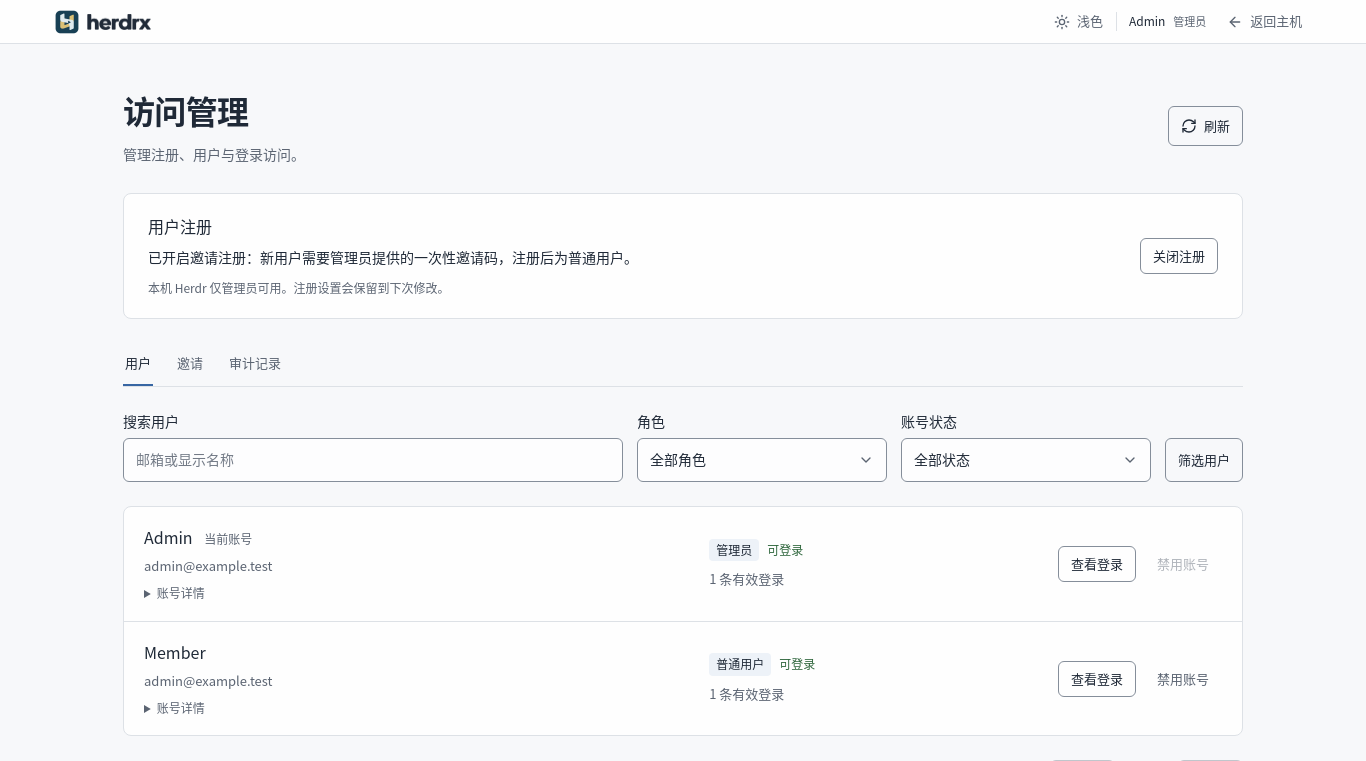
Test: keeps the confirmed state when a stale settings update fails
Click the button "关闭注册".
click(1179, 256)  # box x1=1140 y1=238 x2=1218 y2=274
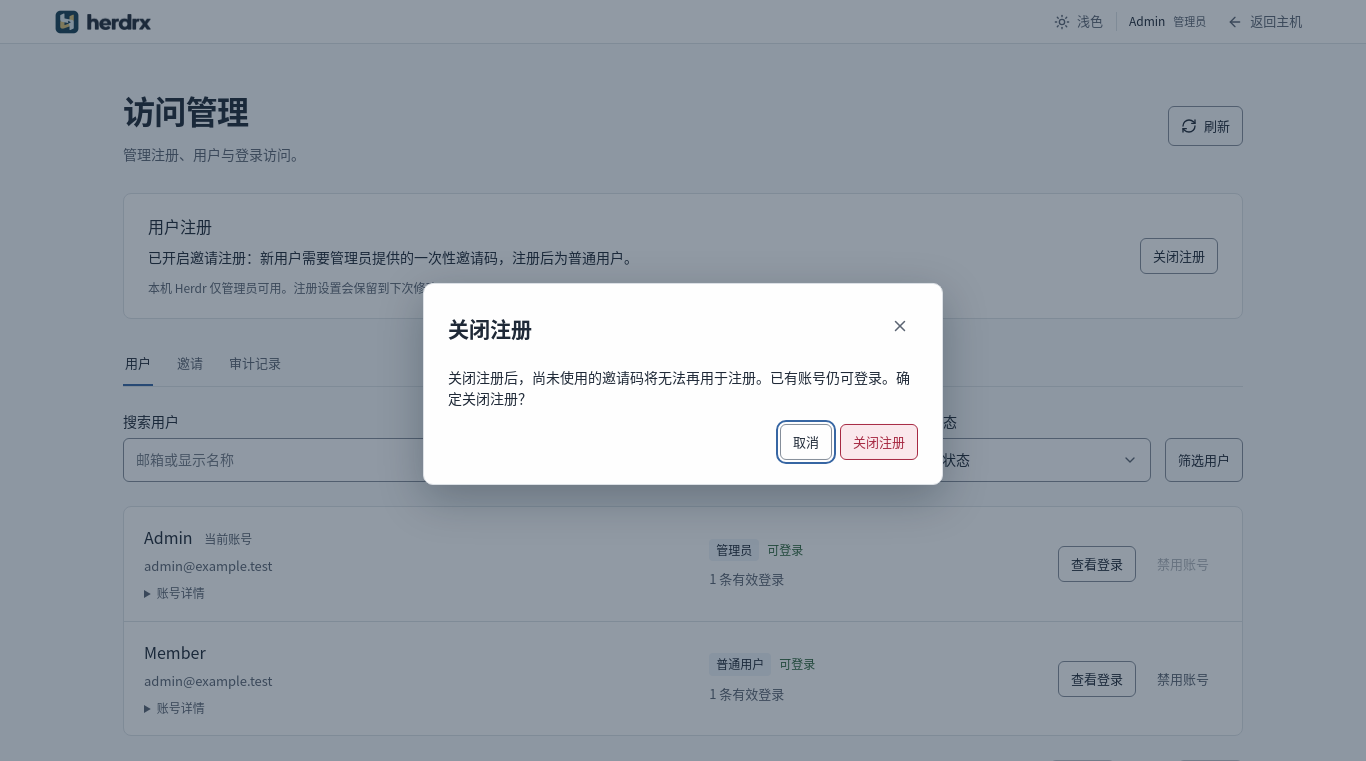
Click the button "关闭注册".
click(879, 442)  # box x1=840 y1=424 x2=918 y2=460
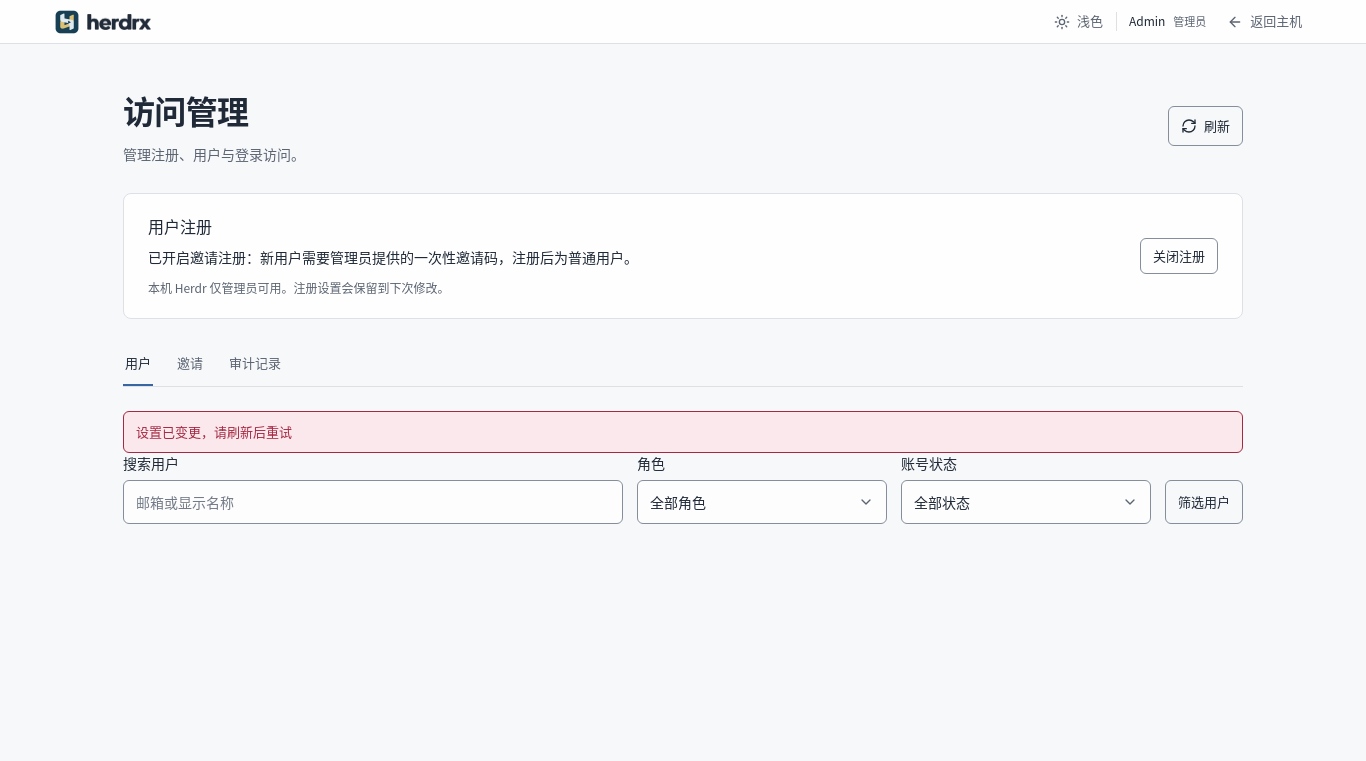
Expected: the button "关闭注册" is enabled, x1=1140 y1=238 x2=1218 y2=274
Now the message shows "设置已变更", box x1=136 y1=422 x2=292 y2=441
